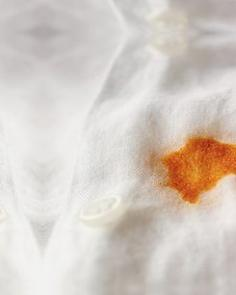stain: (149, 131, 236, 206)
